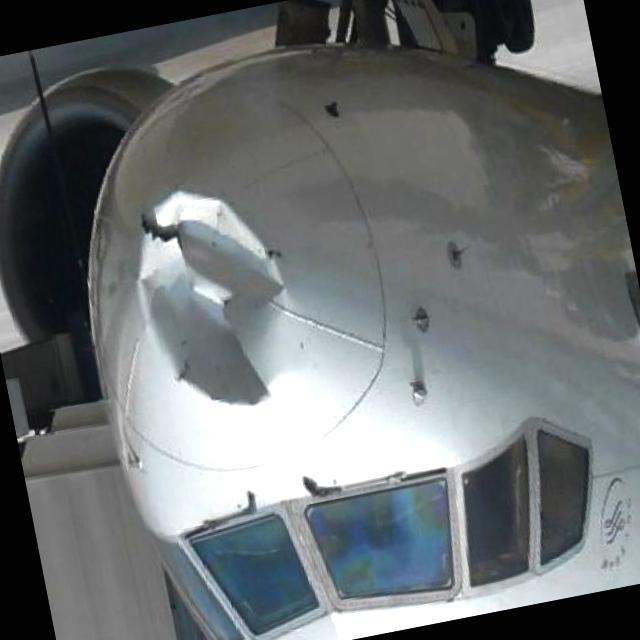dent: (117, 172, 306, 434)
